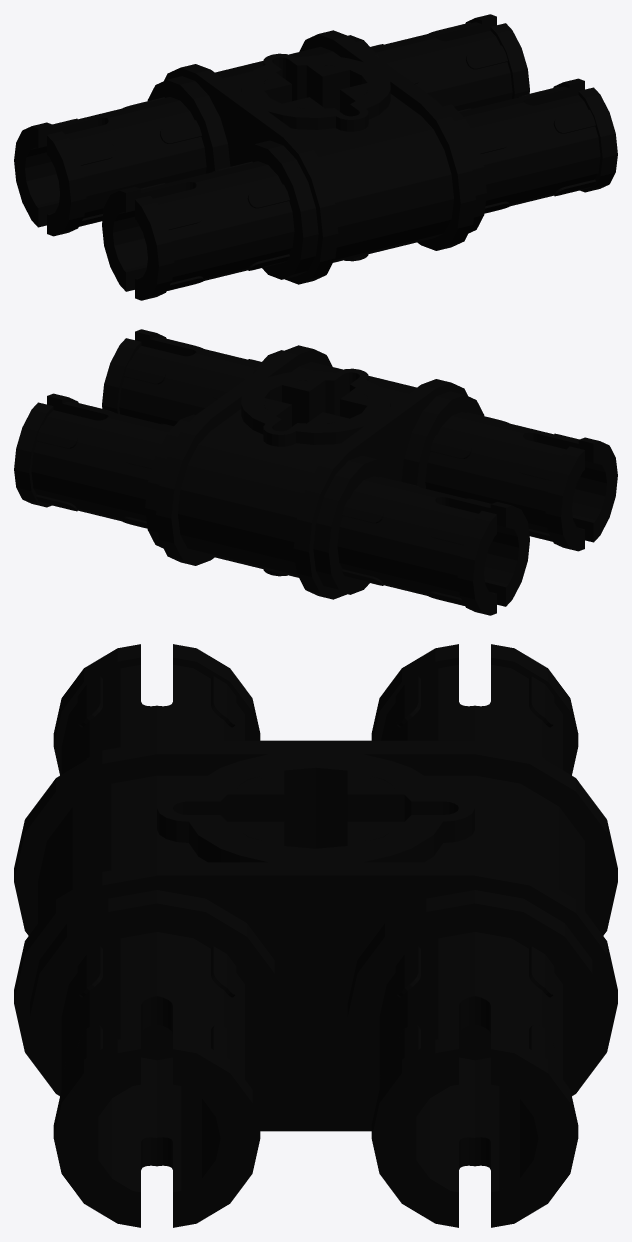
3 renders of one model, top to bottom at view 1: azimuth 30°, elevation 25°; view 2: azimuth 150°, elevation 25°; view 3: azimuth 270°, elevation 25°, orthographic. The views are drawn at different scales.
Parts seen in each view (by area): view 1: node; view 2: node; view 3: node.
Part boxes in pixels (x1=…): node: x1=14, y1=14, x2=617, y2=300; node: x1=14, y1=329, x2=617, y2=615; node: x1=14, y1=644, x2=617, y2=1227.
Bounding box in the file's own units: 59.5 × 17.5 × 37.5.
1 material, 1 textured.
